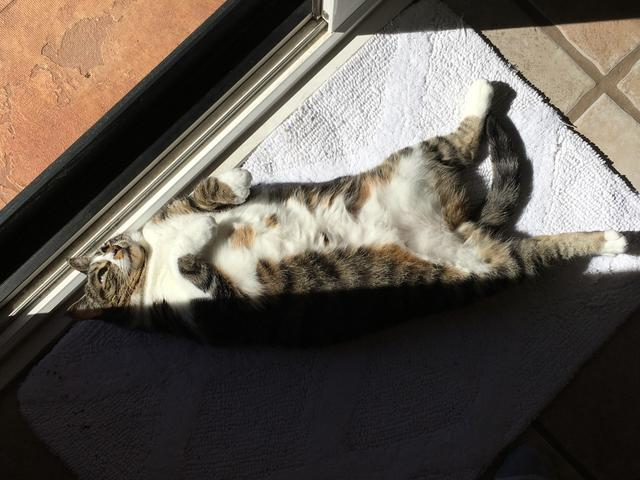playdoh: (62, 84, 625, 343)
